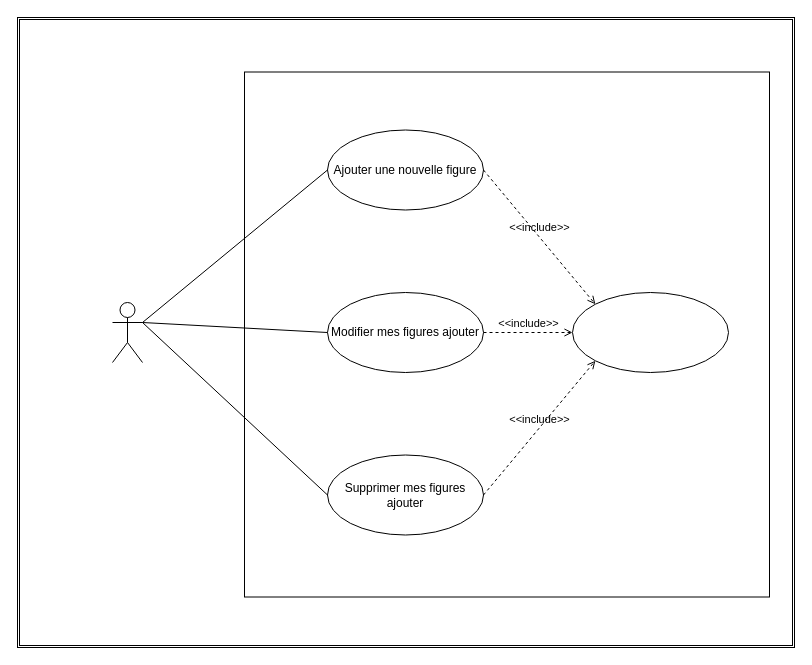
Some shapes in this 812 by 665 pixel diagram are drawn without their labels. The box of each missing label's shape, as (x1, y1, x2, y2) in pixels:
Redacteur: (112, 302, 142, 362)
S'authentifier: (572, 292, 728, 372)
